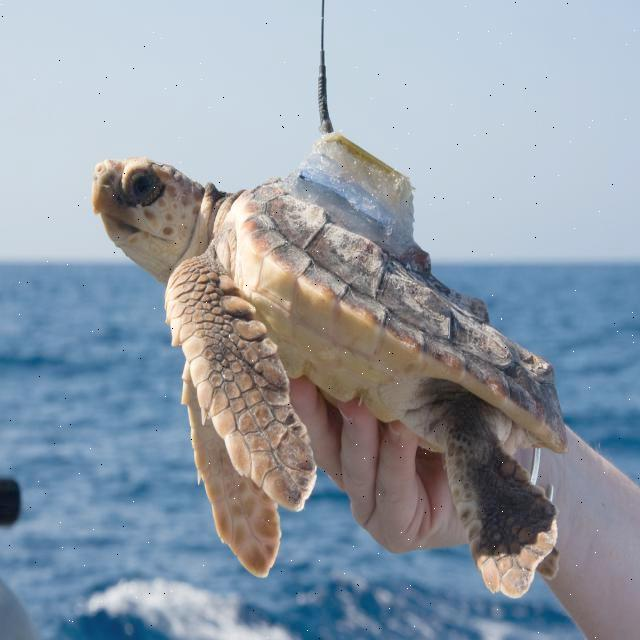tortoise: (59, 125, 564, 565)
